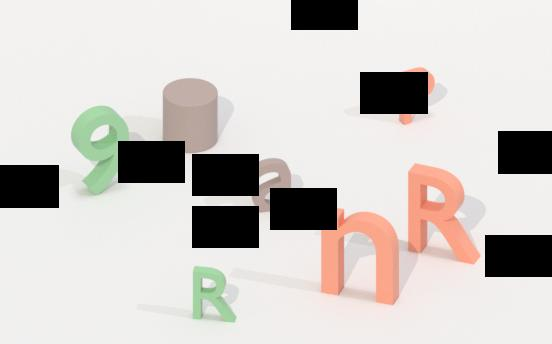9: (68, 101, 131, 198)
R-hoa: (405, 154, 482, 271), (188, 262, 239, 325)
a: (250, 153, 300, 218)
n: (319, 200, 402, 310)
p: (397, 65, 437, 129)
tru: (159, 72, 221, 158)
